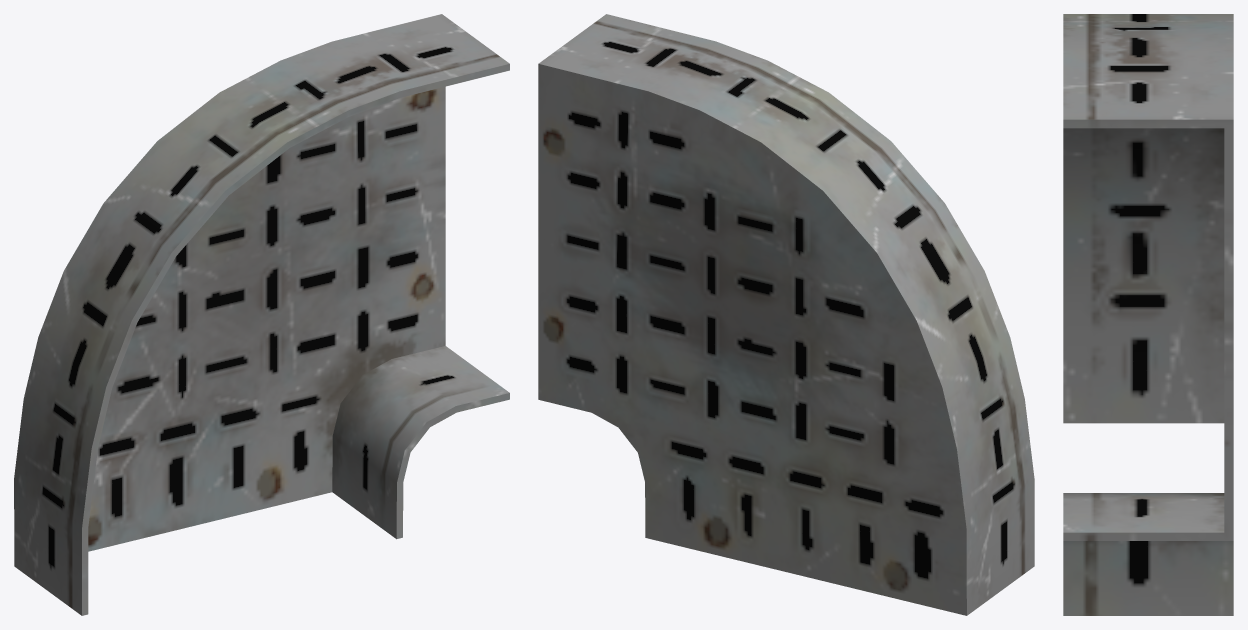
The model's file is CableTray_05a_snaps019.fbx.
3 views of the same model, side by side, from view 1: azimuth 30°, elevation 25°; view 2: azimuth 150°, elevation 25°; view 3: azimuth 270°, elevation 25° (orthographic). The views are drawn at different scales.
Visible parts, largest first — view 1: CableTray_05a_snaps019_LOD0; view 2: CableTray_05a_snaps019_LOD0; view 3: CableTray_05a_snaps019_LOD0.
Part boxes in pixels (box(x1,y1,x2,y2)): CableTray_05a_snaps019_LOD0: box(14, 14, 509, 615); CableTray_05a_snaps019_LOD0: box(538, 14, 1034, 615); CableTray_05a_snaps019_LOD0: box(1063, 14, 1233, 615).
Size of what is drawn, in the model's own units: 20 by 20 by 5.5.
